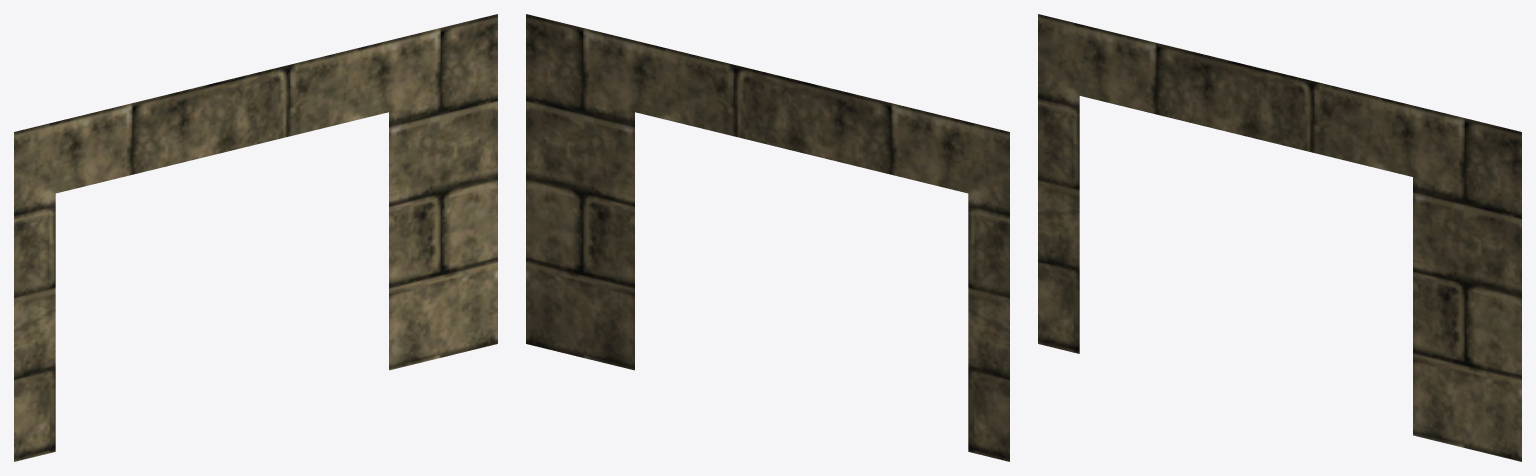
The model's file is OVERHILL_A_01_OBJECT197.fbx.
3 views of the same model, side by side, from view 1: azimuth 30°, elevation 25°; view 2: azimuth 150°, elevation 25°; view 3: azimuth 330°, elevation 25° (orthographic).
Visible parts, largest first — view 1: OVERHILL_A_01_OBJECT197; view 2: OVERHILL_A_01_OBJECT197; view 3: OVERHILL_A_01_OBJECT197.
Part boxes in pixels (x1,y1,x2,y2): OVERHILL_A_01_OBJECT197: (14,14,497,461); OVERHILL_A_01_OBJECT197: (526,14,1009,461); OVERHILL_A_01_OBJECT197: (1038,14,1521,461).
Size of the model in its own units: 52745 by 34378 by 0.0544.
Materials: 1 (1 with a texture image).
